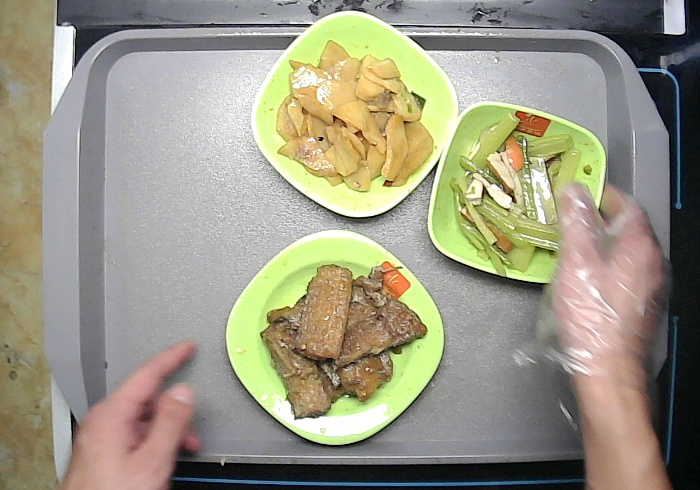SHKJ-Lv_Se_Cai_Die: (249, 10, 459, 217)
SHKJ-Lv_Se_Si_Fang_Cai_Die: (224, 229, 446, 446)
SHKJ-Lv_Se_Xiao_Fang_Die: (427, 99, 608, 287)
